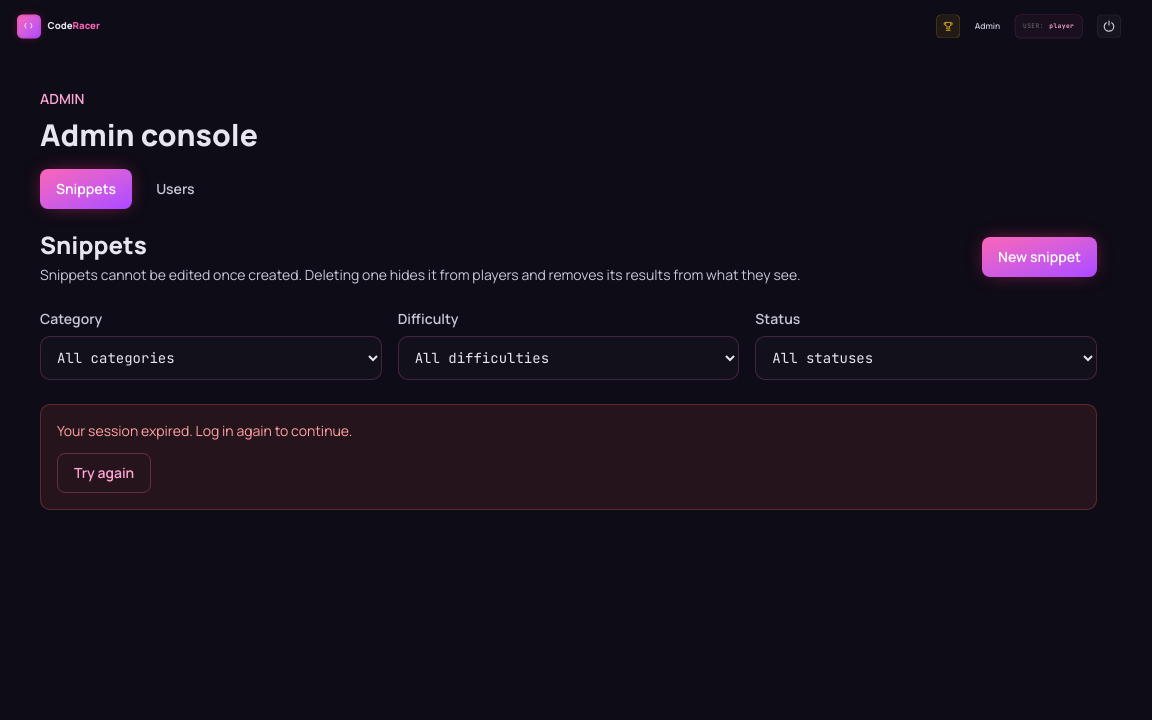
Test: HomePage › shows the snippets console by default and switches to users on tab click
Expected: the heading "Snippets" is shown, [40,228,147,261]
Click the button "Users".
click(175, 189)  # box [140,169,211,209]
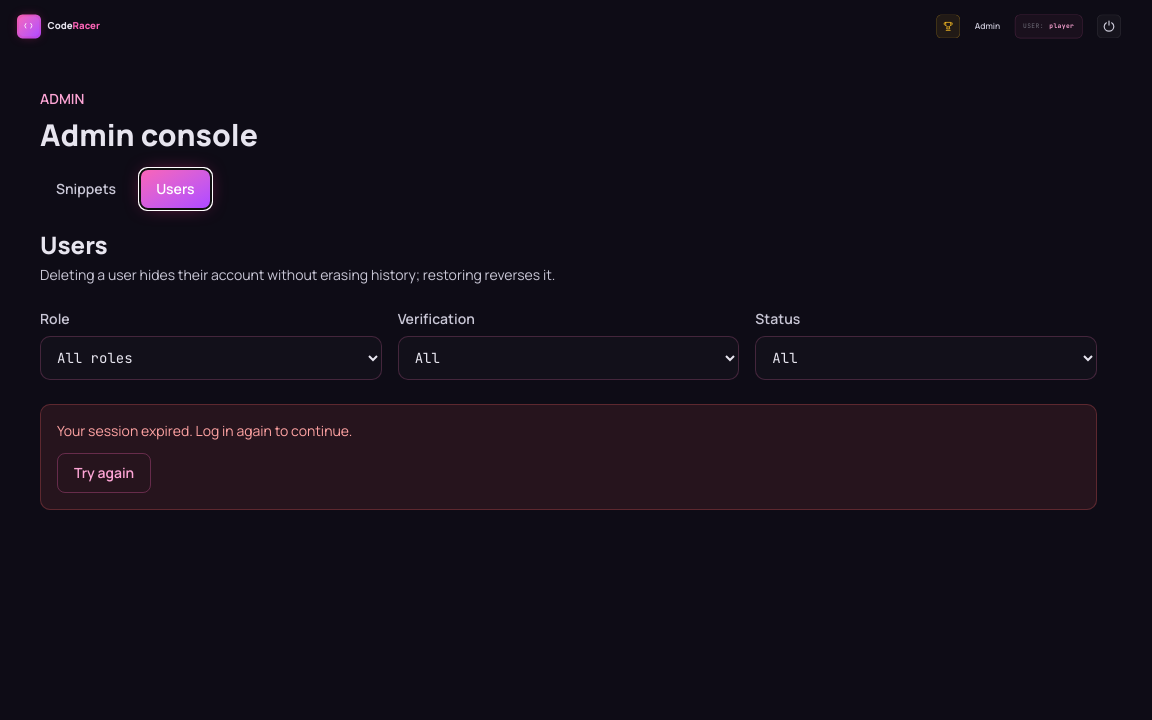
Result: the heading "Users" is shown at [40,228,108,261]
